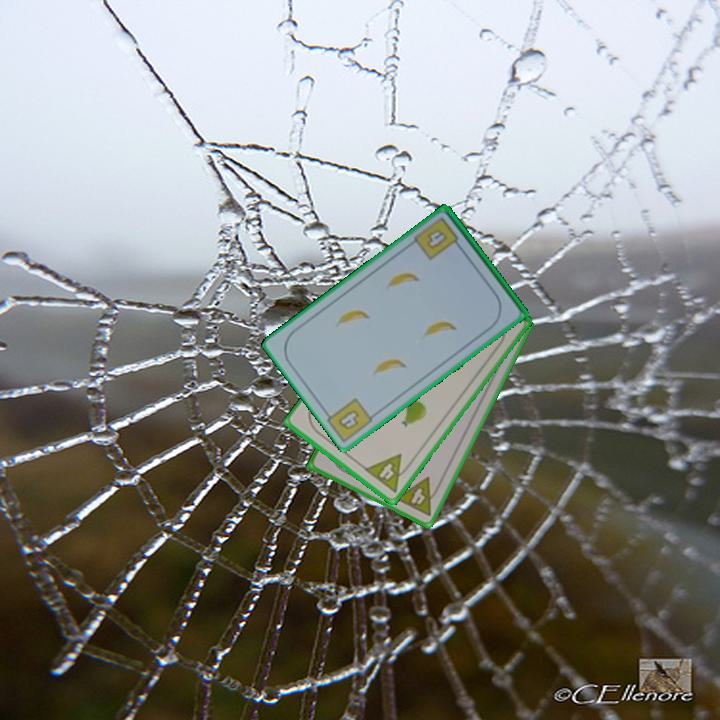4b: (412, 214, 465, 263), (334, 406, 362, 433)
4p: (361, 450, 415, 496), (392, 473, 444, 519)
